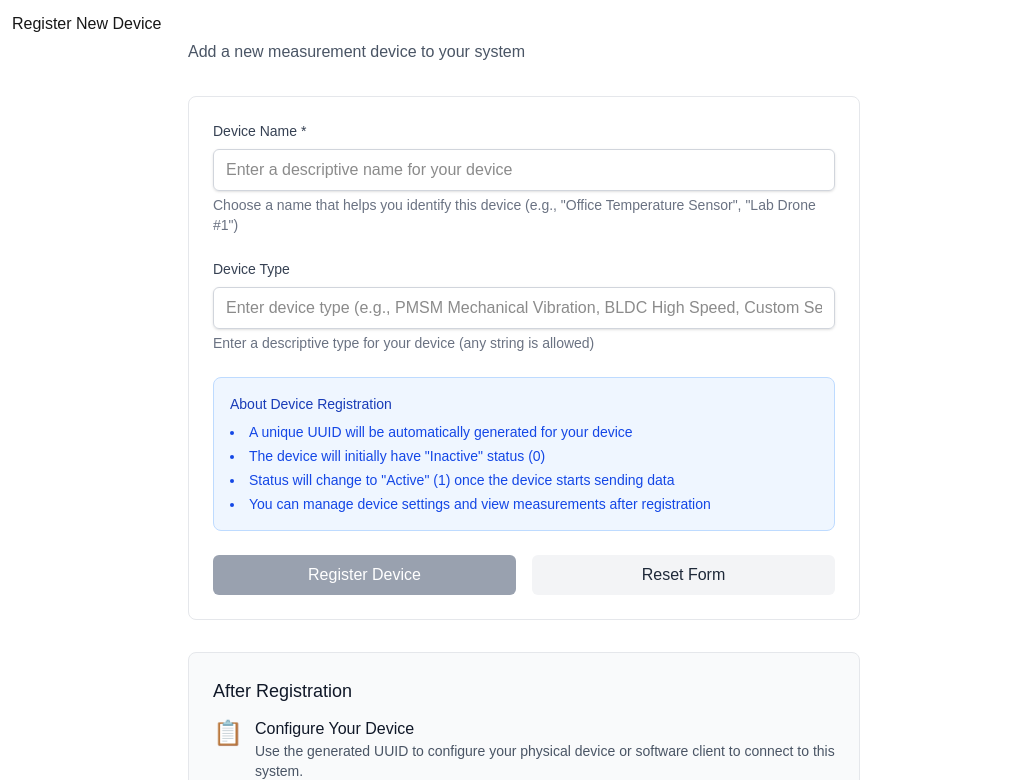
it: DeviceRegisterPage › submits form with valid data
This screenshot has width=1036, height=780.
Note: Fill out the form
Type "Test Device" into the field labelled "Device Name *" at (524, 170), box top-left (213, 149), bottom-right (835, 191)
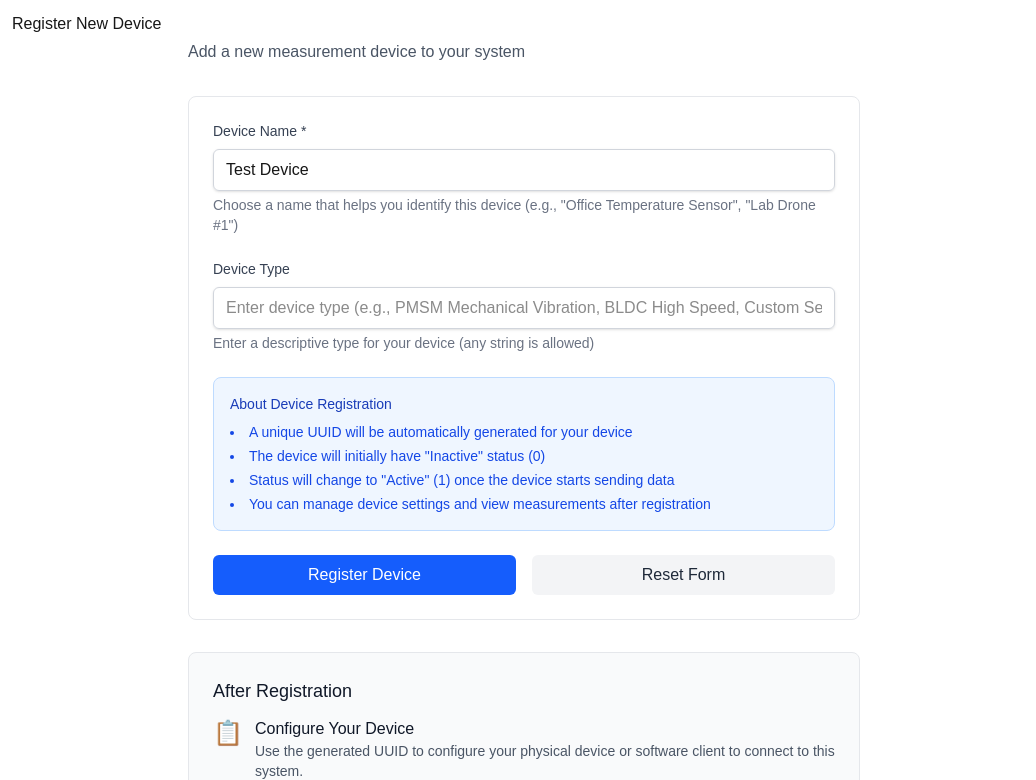
Replace the text in the field labelled "Device Type" with "pmsm-mechanical-vibration" at (524, 308), box top-left (213, 287), bottom-right (835, 329)
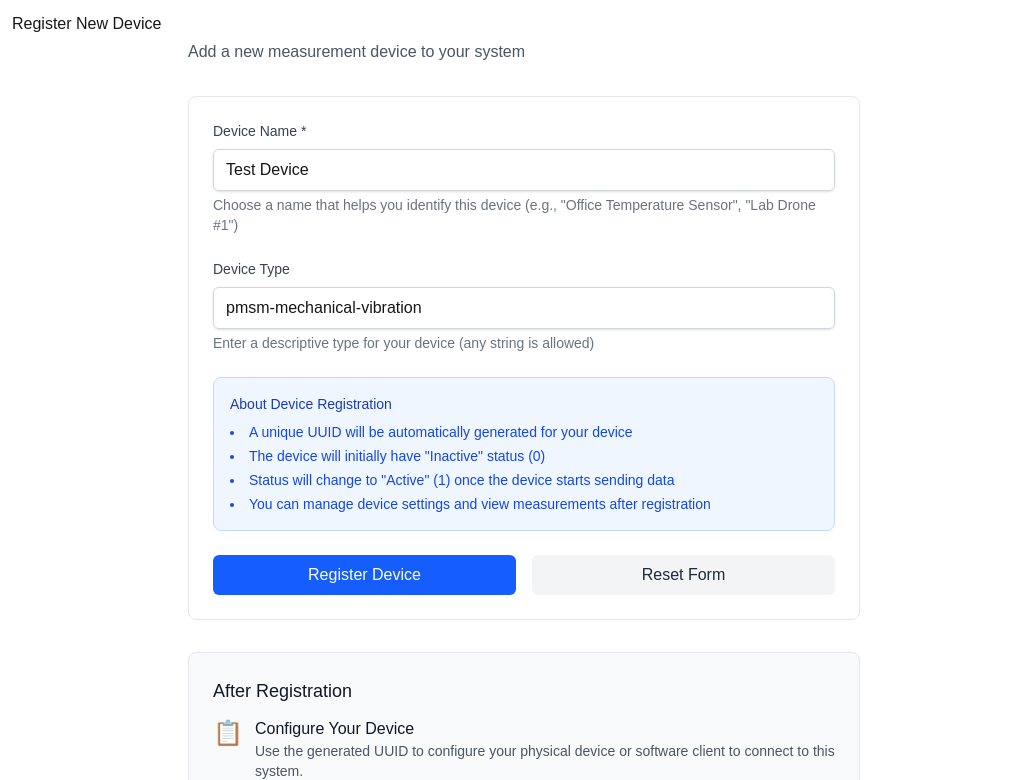
Note: Submit the form
Click the button "Register Device" at (364, 575), box top-left (213, 555), bottom-right (516, 595)
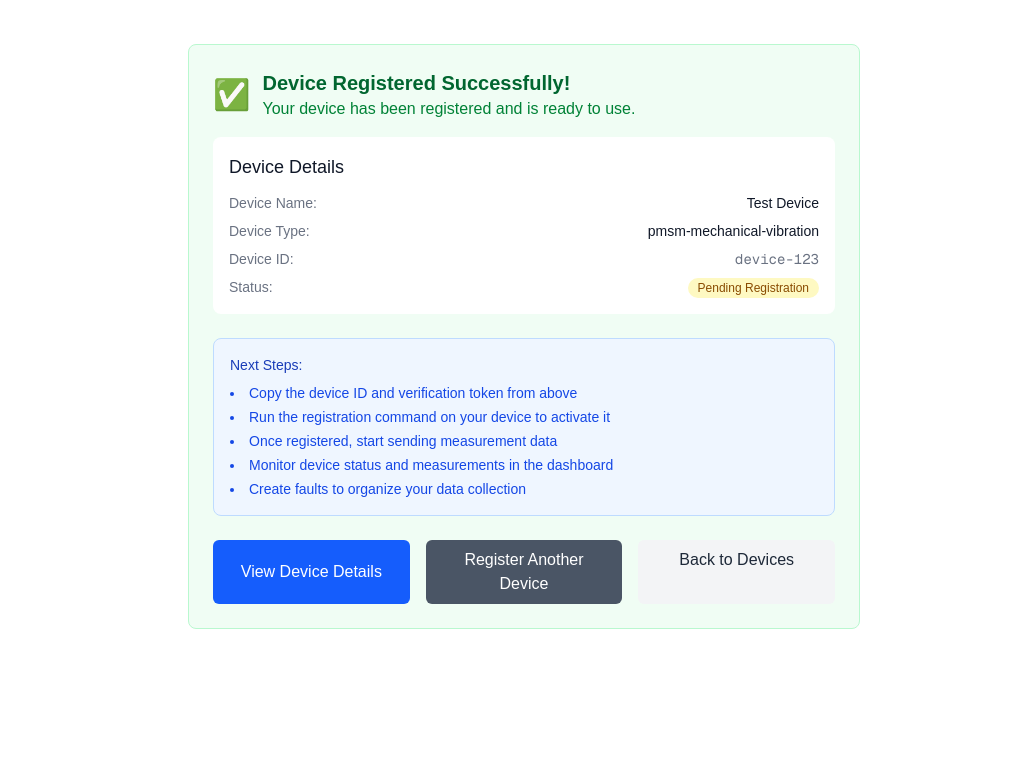
Expected: the heading "Device Registered Successfully!" is shown, top-left (262, 72), bottom-right (570, 94)
Expected: the button "View Device Details" is shown, top-left (213, 540), bottom-right (410, 604)
